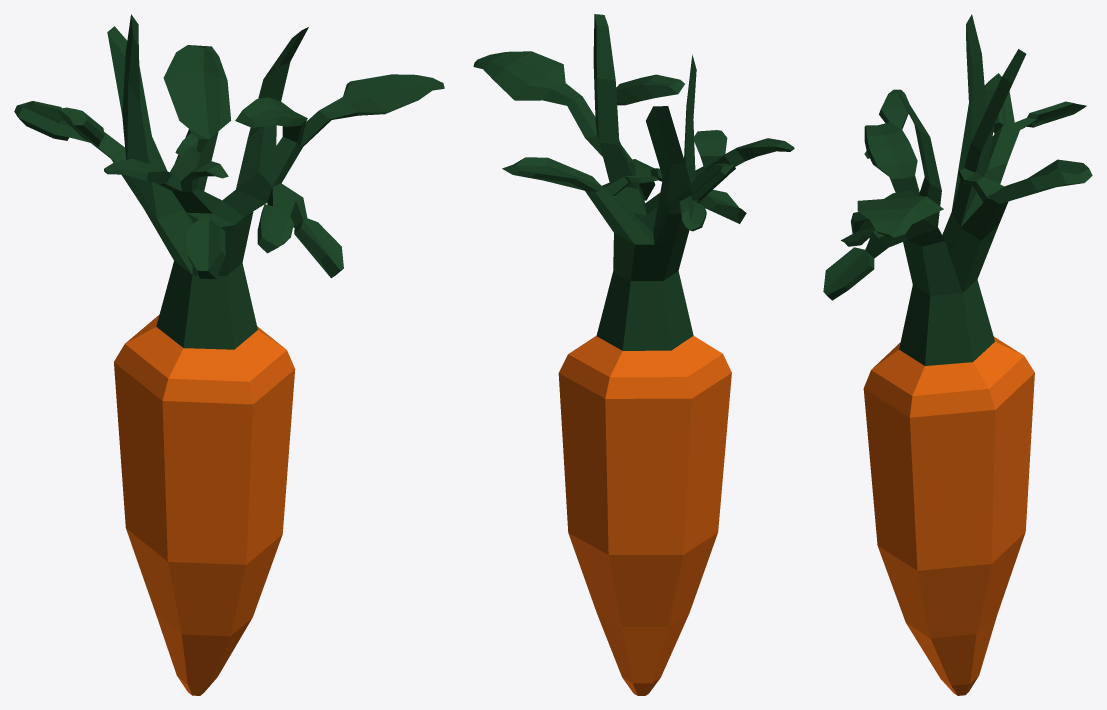
Rendered from donecarrot.glb.
3 renders of one model, left to right at view 1: azimuth 30°, elevation 25°; view 2: azimuth 150°, elevation 25°; view 3: azimuth 270°, elevation 25°, orthographic. The views are drawn at different scales.
Visible parts, largest first — view 1: Цилиндр; view 2: Цилиндр; view 3: Цилиндр.
Boxes of the visible parts, x1=… form: Цилиндр: x1=14, y1=14, x2=444, y2=695; Цилиндр: x1=473, y1=14, x2=794, y2=695; Цилиндр: x1=823, y1=14, x2=1092, y2=695.
Bounding box in the file's own units: 0.6639 × 1.3 × 0.4883.
